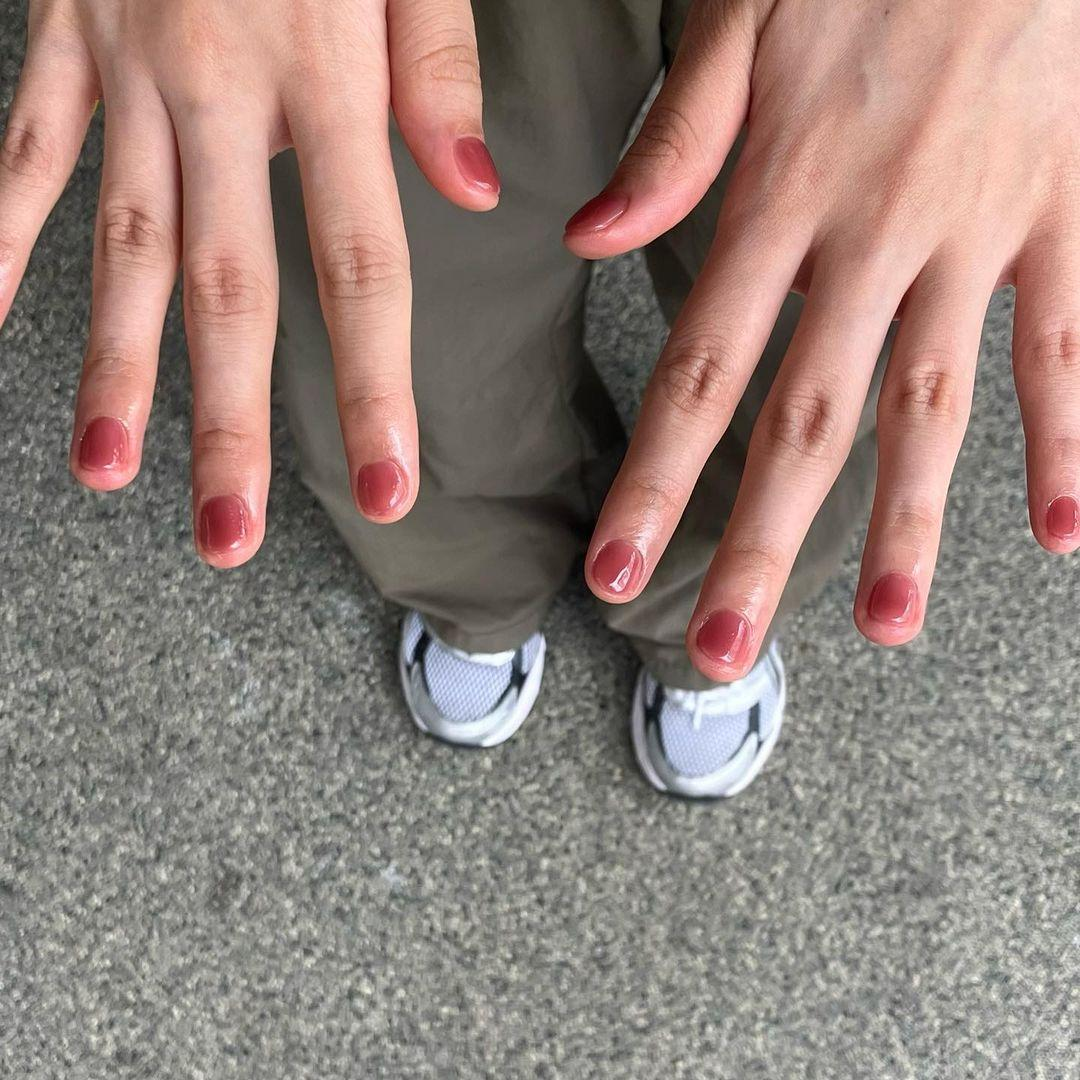nail: (196, 493, 250, 558), (694, 608, 750, 668), (354, 458, 407, 521), (589, 536, 643, 597), (77, 415, 129, 474), (564, 189, 629, 236), (452, 134, 500, 194), (867, 571, 917, 626), (1043, 494, 1079, 543)
